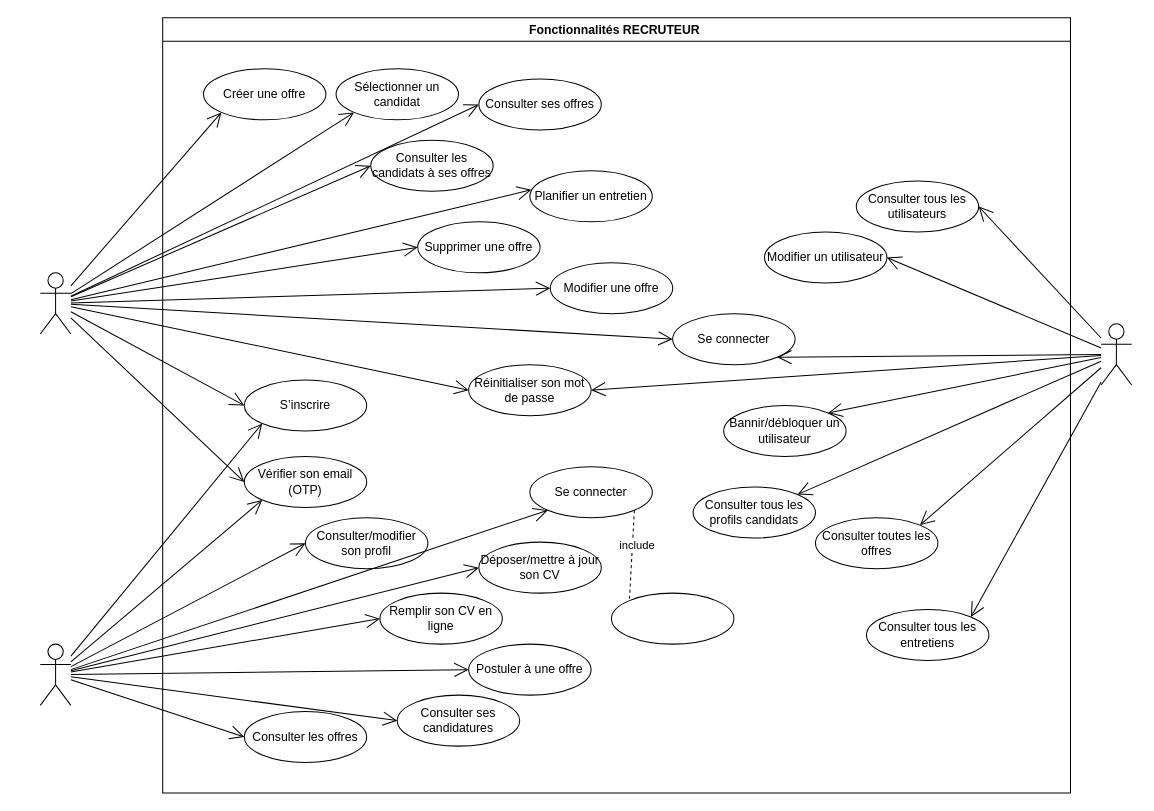
Some shapes in this 1154 by 811 pixel diagram are drawn without their labels. Each missing label, with the centre of its shape:
"ADMIN" goes at (x=1116, y=354).
"CANDIDAT" goes at (x=55, y=674).
"Charger Cv" goes at (x=672, y=618).
"RECRUTEUR" goes at (x=55, y=303).
